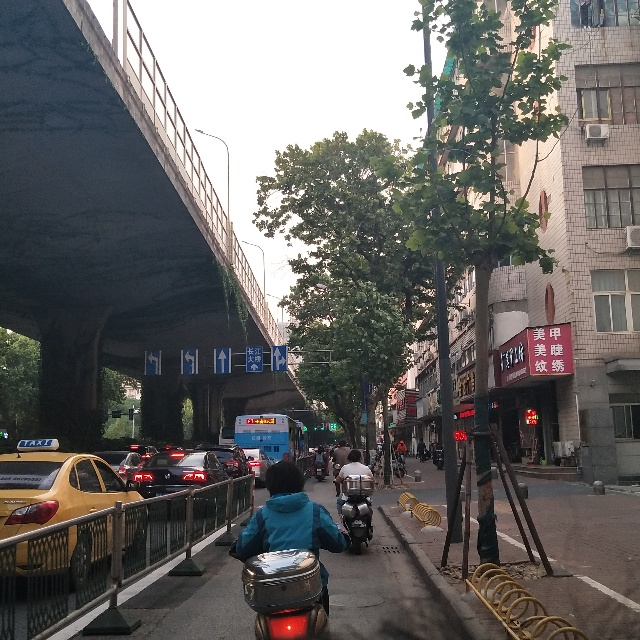left: (142, 350, 161, 377), (185, 348, 196, 378)
straight: (216, 345, 230, 377), (247, 360, 263, 375)
